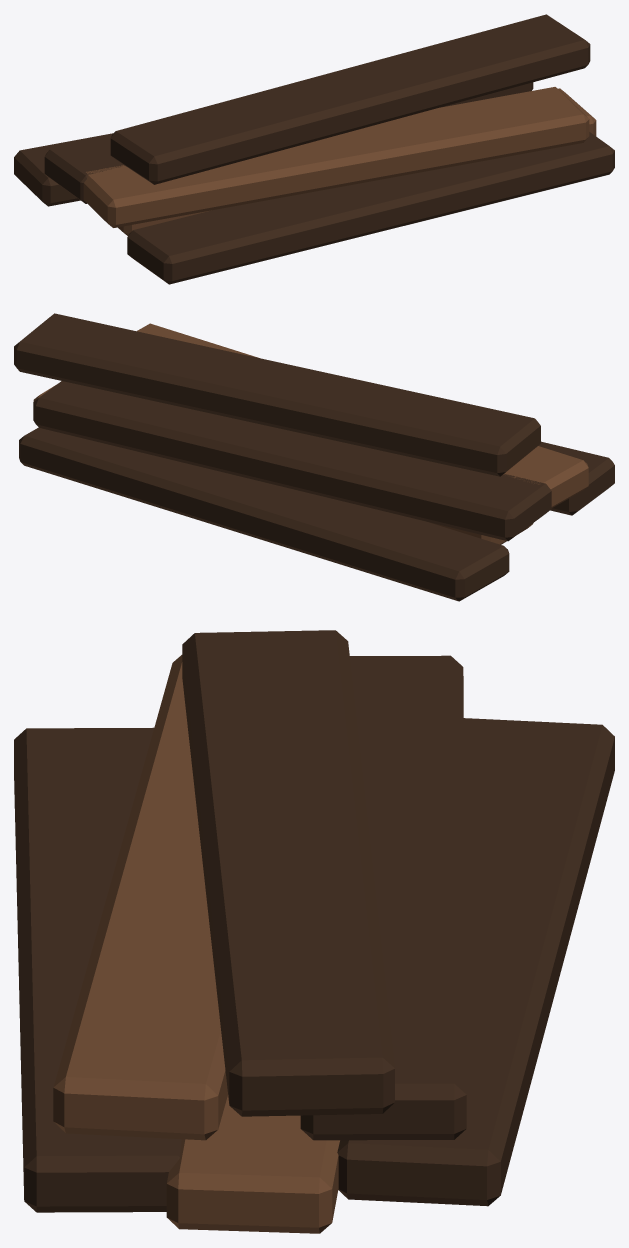
The model's file is plank_pile.glb.
The picture shows the model from 3 angles, top to bottom: view 1: azimuth 30°, elevation 25°; view 2: azimuth 150°, elevation 25°; view 3: azimuth 270°, elevation 25°; orthographic projection. The views are drawn at different scales.
Visible parts, largest first — view 1: PlankPile; view 2: PlankPile; view 3: PlankPile.
Boxes of the visible parts, bbox=[...] form: PlankPile: bbox=[14, 14, 614, 284]; PlankPile: bbox=[14, 313, 614, 601]; PlankPile: bbox=[14, 630, 614, 1233].
Bounding box in the file's own units: 1.09 × 0.19 × 0.5794.
